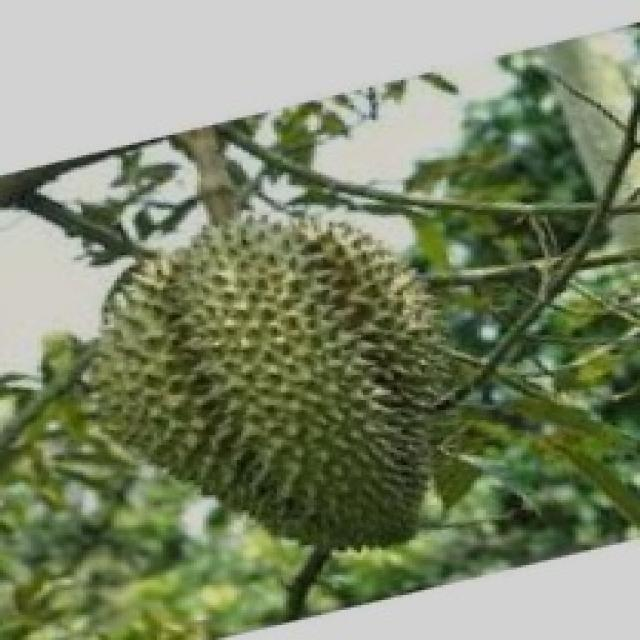fruit: (43, 180, 477, 595)
